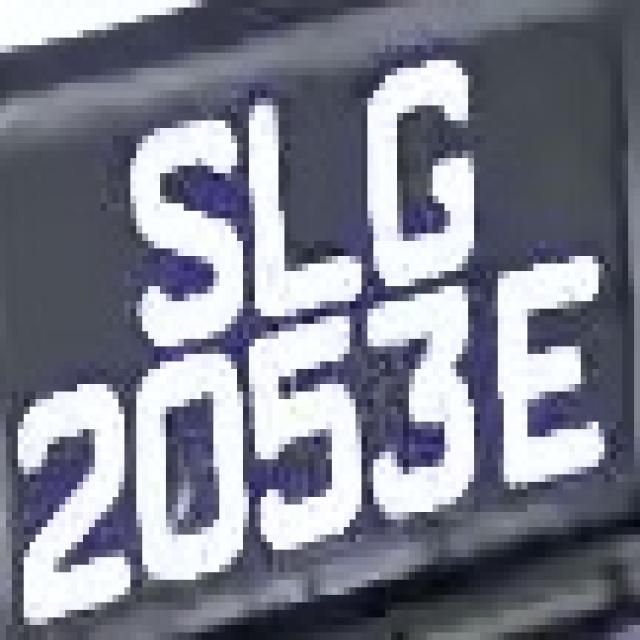0: (124, 354, 249, 602)
2: (0, 369, 130, 640)
3: (361, 294, 492, 550)
5: (220, 294, 368, 557)
E: (468, 248, 610, 512)
G: (344, 38, 474, 301)
L: (225, 83, 368, 331)
S: (124, 75, 243, 354)
